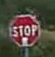stop: (5, 13, 41, 46)
